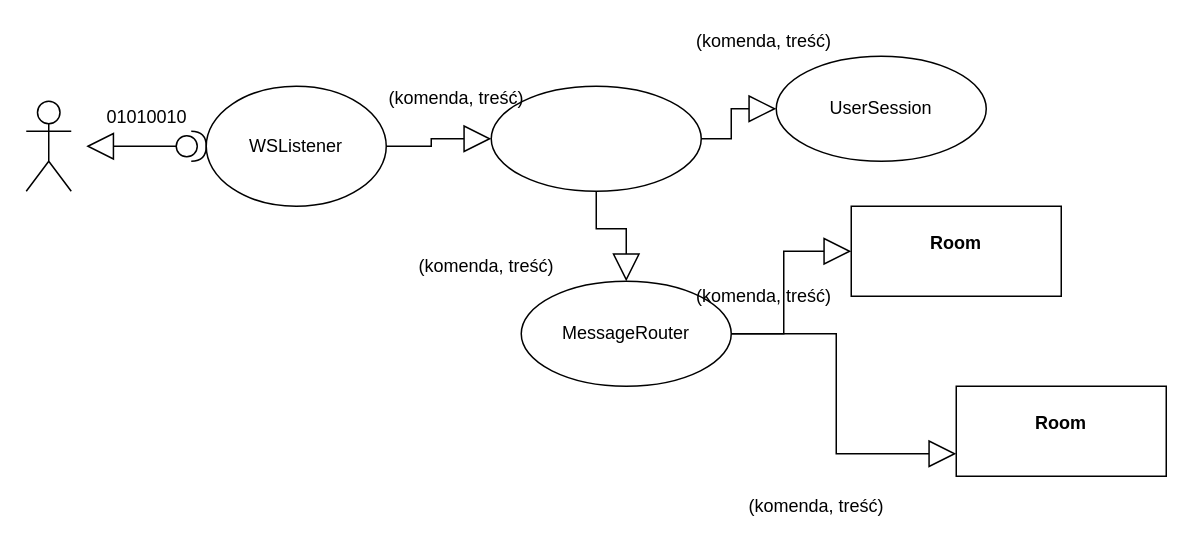
This 1193x546 diagram has some shape labels left out. Each missing label, with the centre of its shape:
Actor: the point at 48,145
Controller: the point at 595,138
